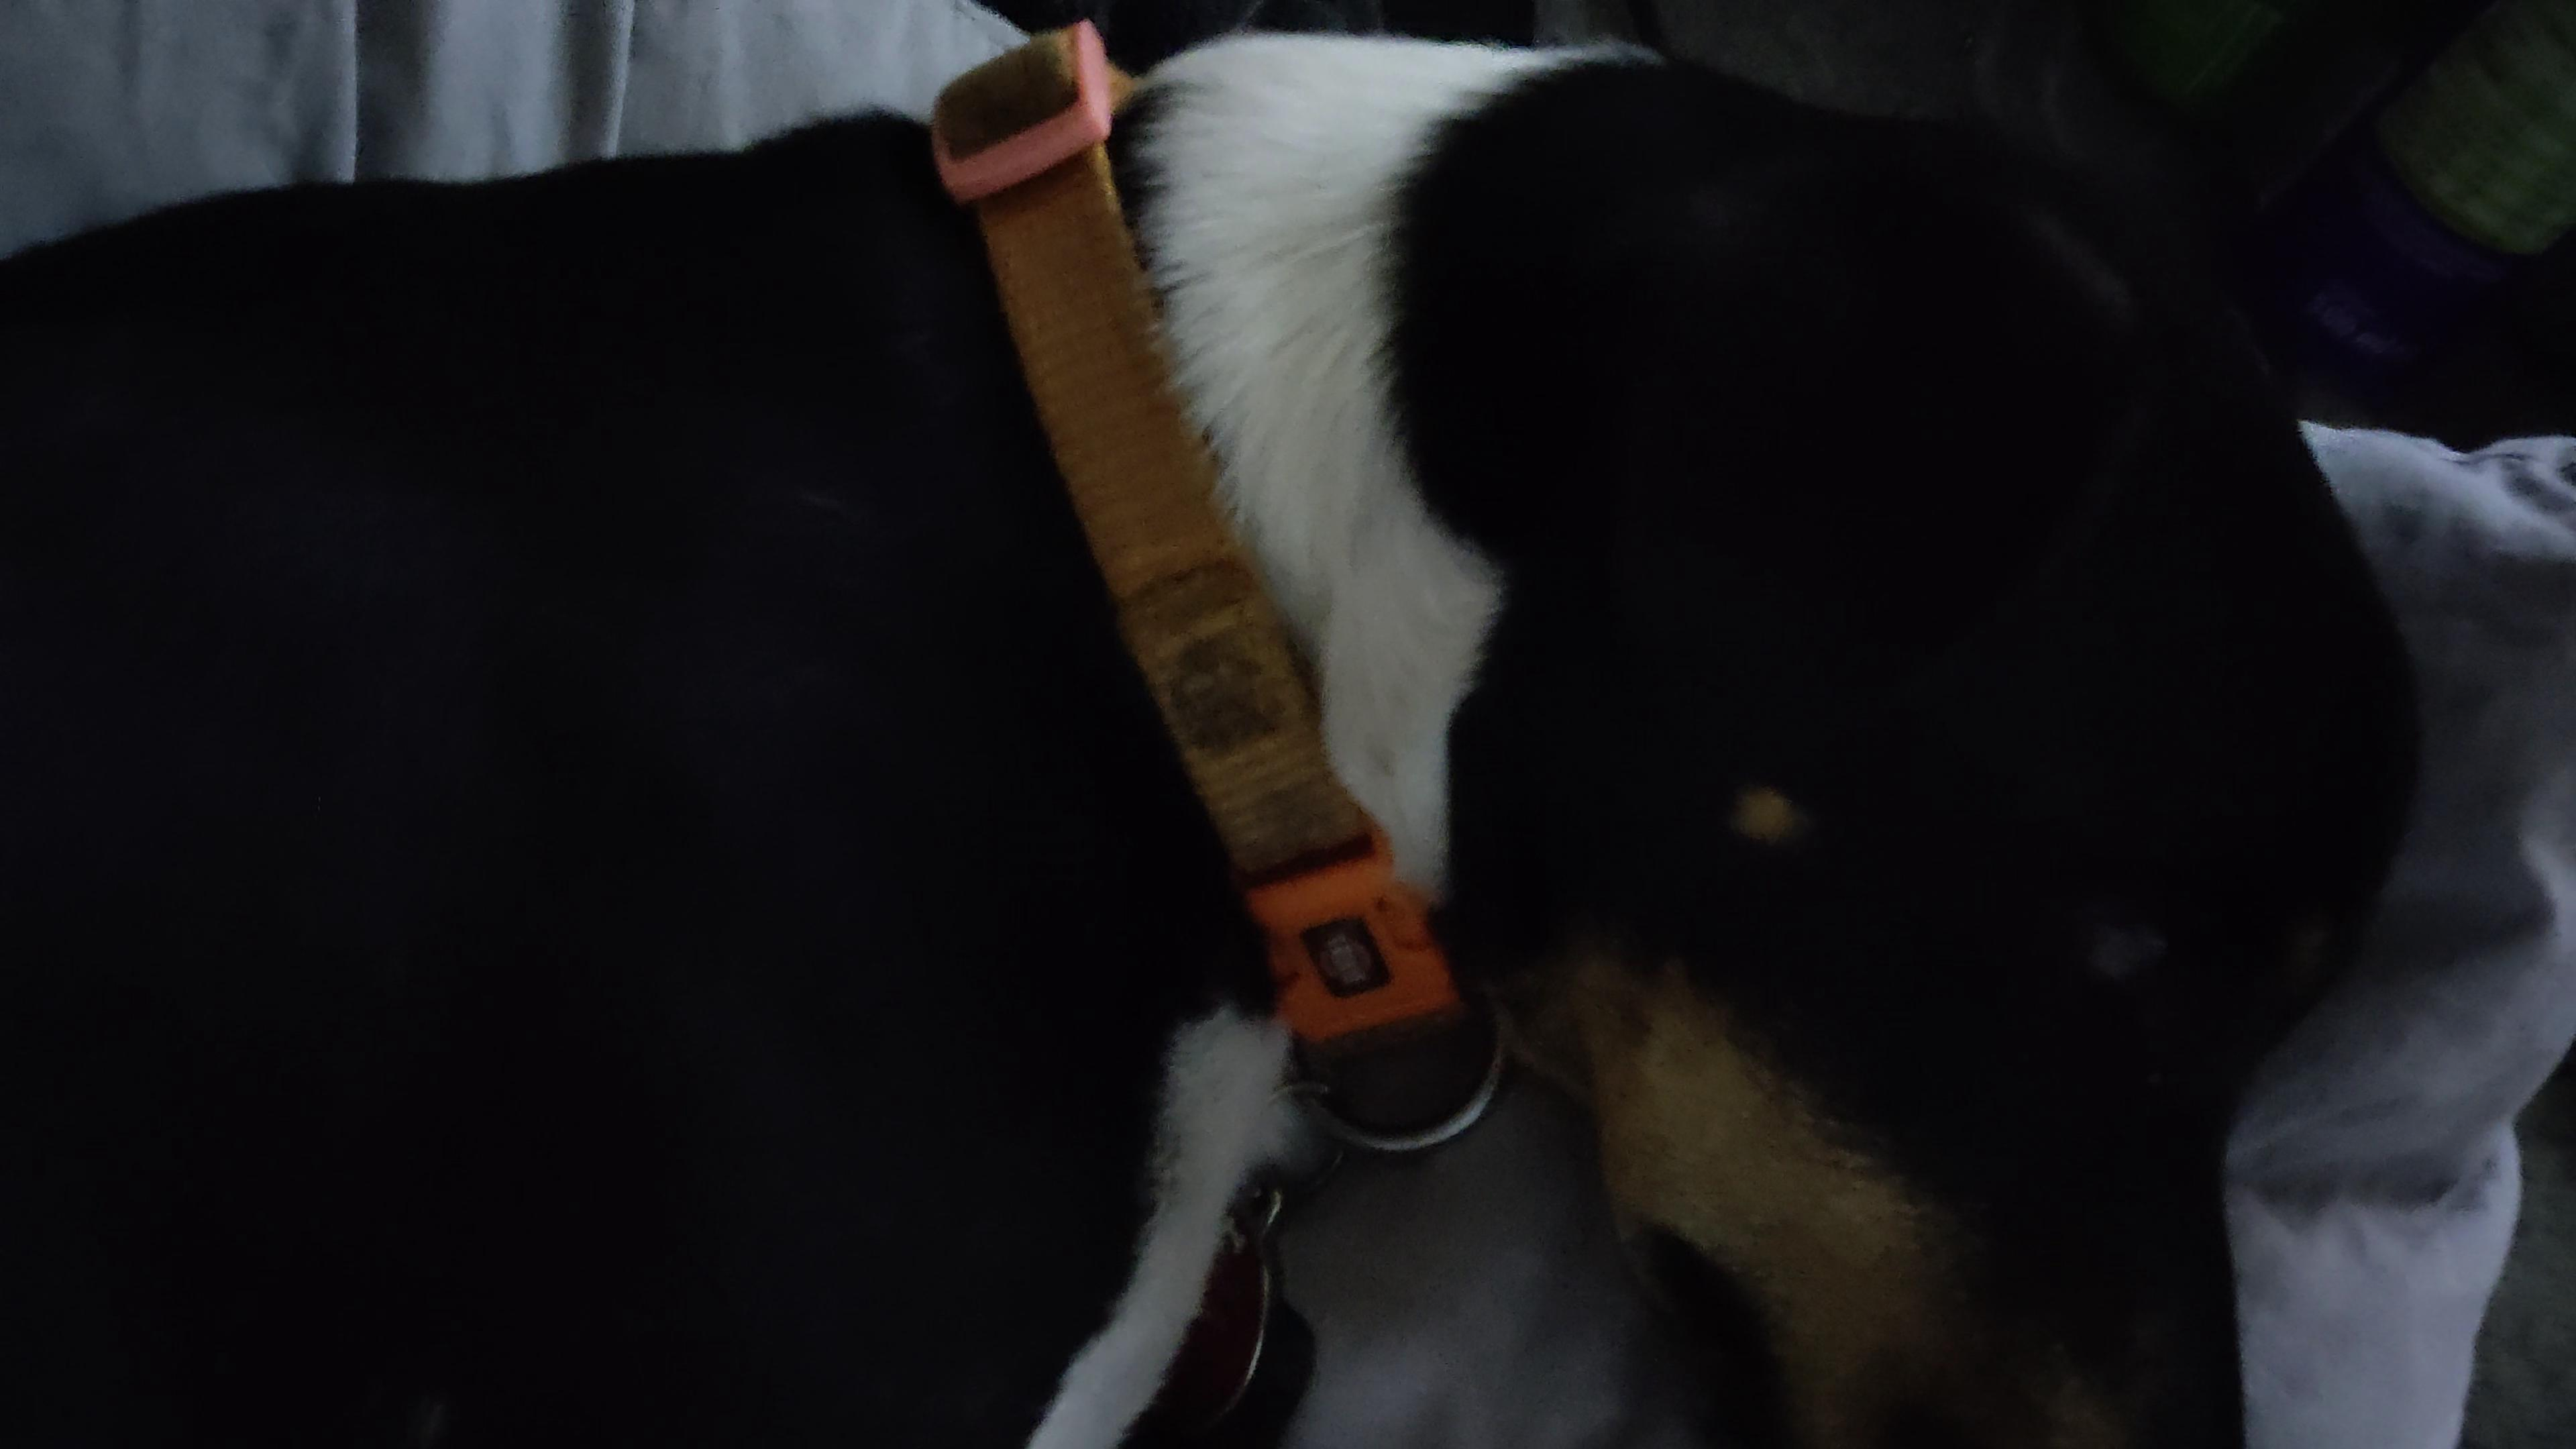Dog: (0, 28, 2431, 1449)
